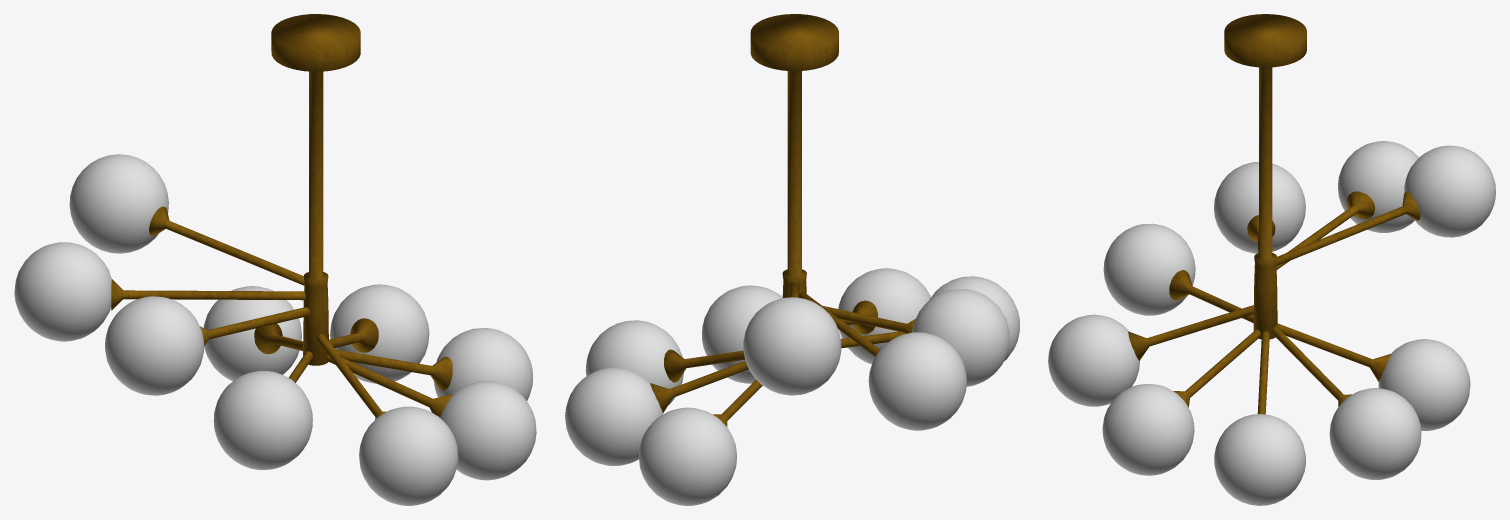
Rendered from pendant_globes.glb.
3 renders of one model, left to right at view 1: azimuth 30°, elevation 25°; view 2: azimuth 150°, elevation 25°; view 3: azimuth 270°, elevation 25°, orthographic. The views are drawn at different scales.
Parts seen in each view (by area): view 1: Object_4, Object_6; view 2: Object_4, Object_6; view 3: Object_4, Object_6.
Part boxes in pixels (left/top/right/bottom): Object_4: left=14, top=154, right=536, bottom=505; Object_6: left=111, top=14, right=452, bottom=419; Object_4: left=565, top=268, right=1019, bottom=505; Object_6: left=650, top=14, right=915, bottom=426; Object_4: left=1048, top=141, right=1495, bottom=505; Object_6: left=1128, top=14, right=1420, bottom=414.
Bounding box in the file's own units: 1 × 0.9309 × 0.9552.
Materials: 2 (1 with a texture image).
